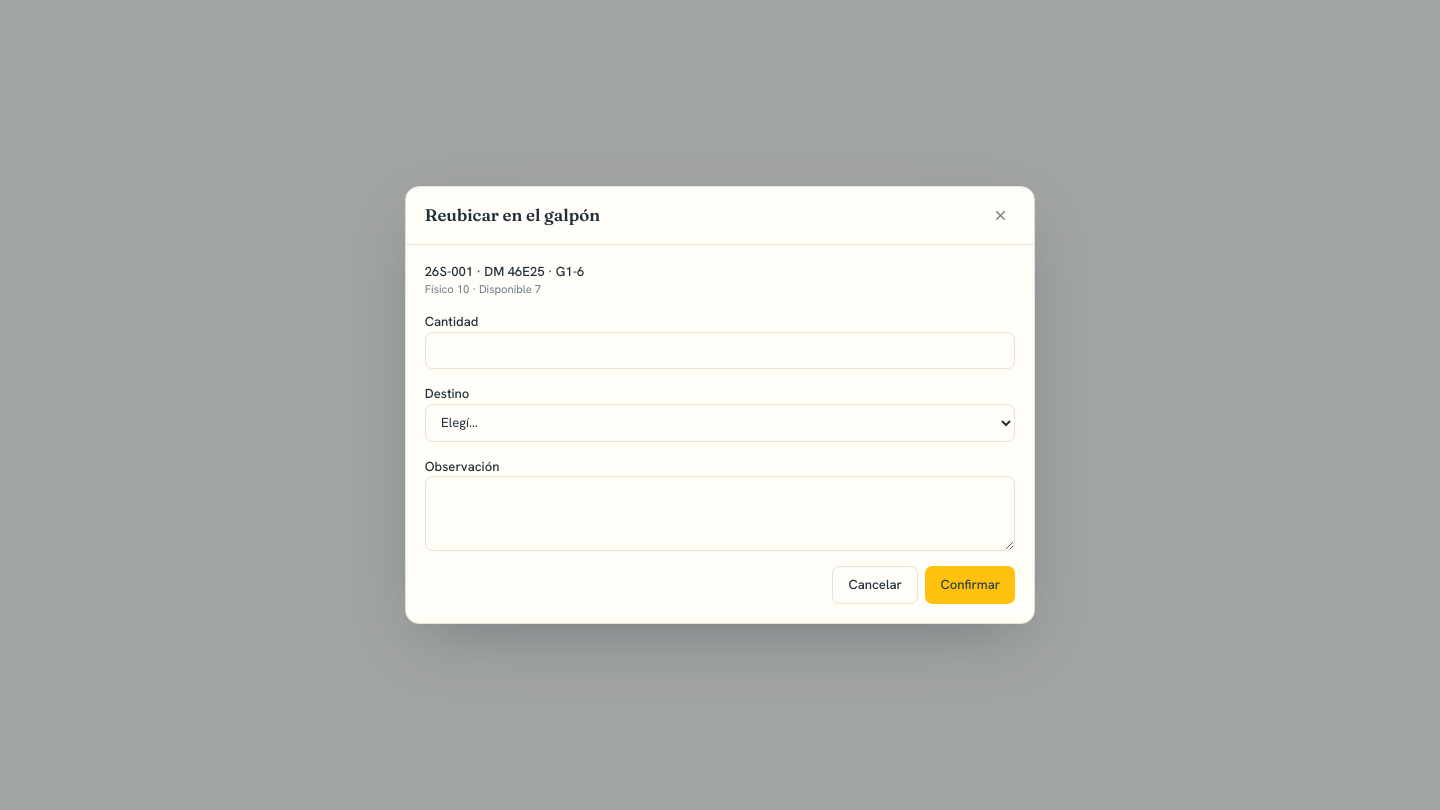
Test: MovimientoDialog › reubicar exige elegir a dónde va
Type "2" into the number field labelled "Cantidad" at (720, 351), box [425,332,1015,369]
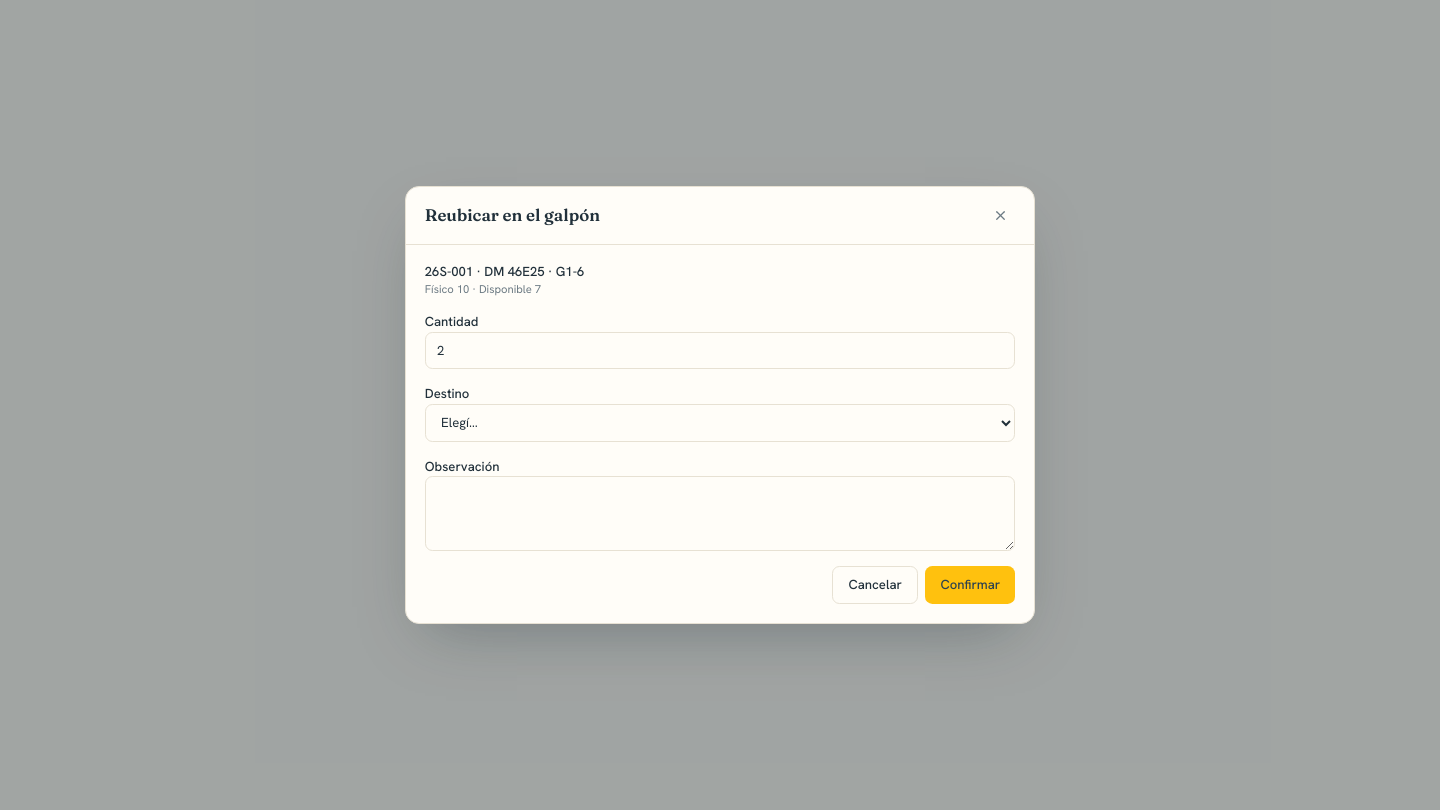
Click the button "Confirmar" at (970, 585), box [926,566,1015,604]
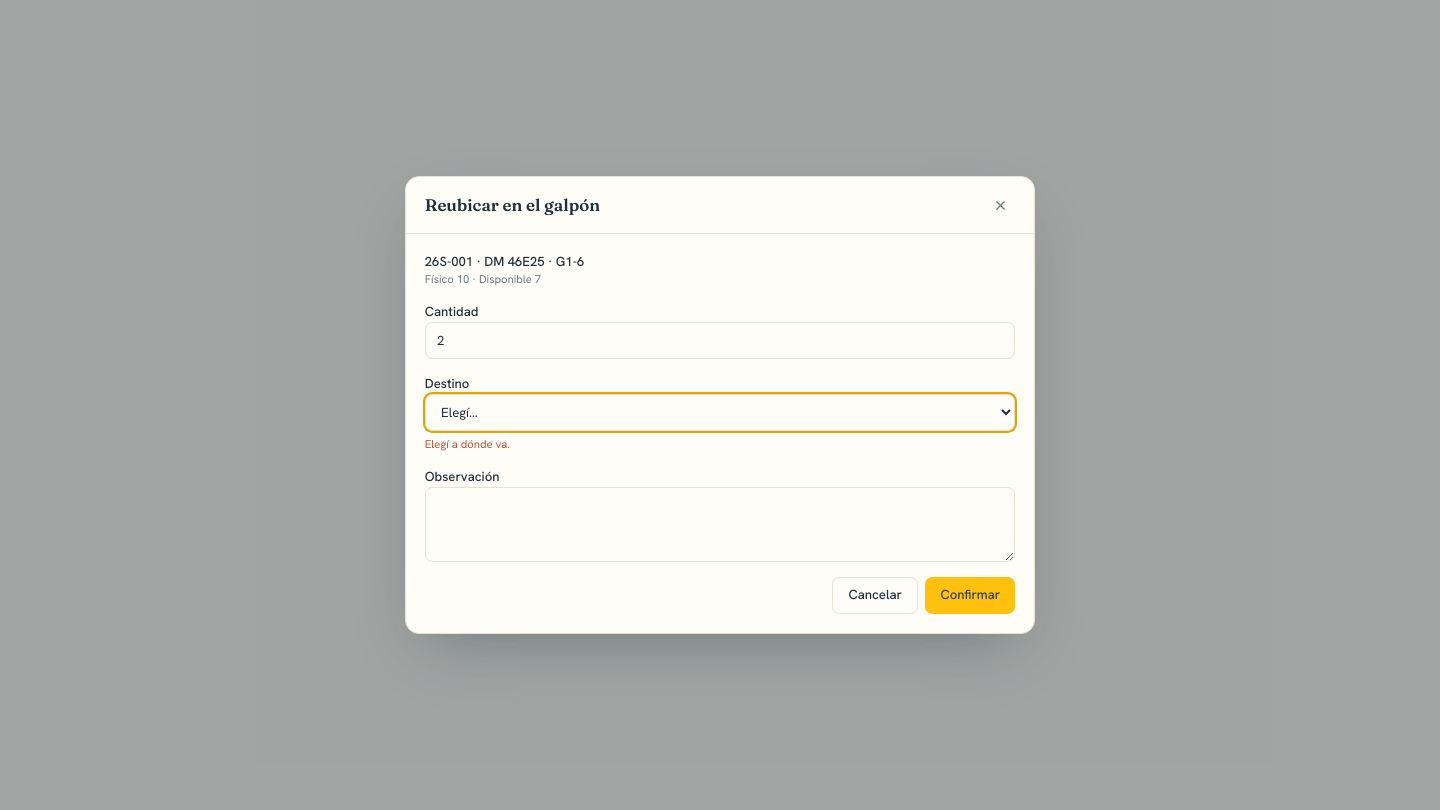
Result: the text "Elegí a dónde va." is shown at [425,437,510,451]
